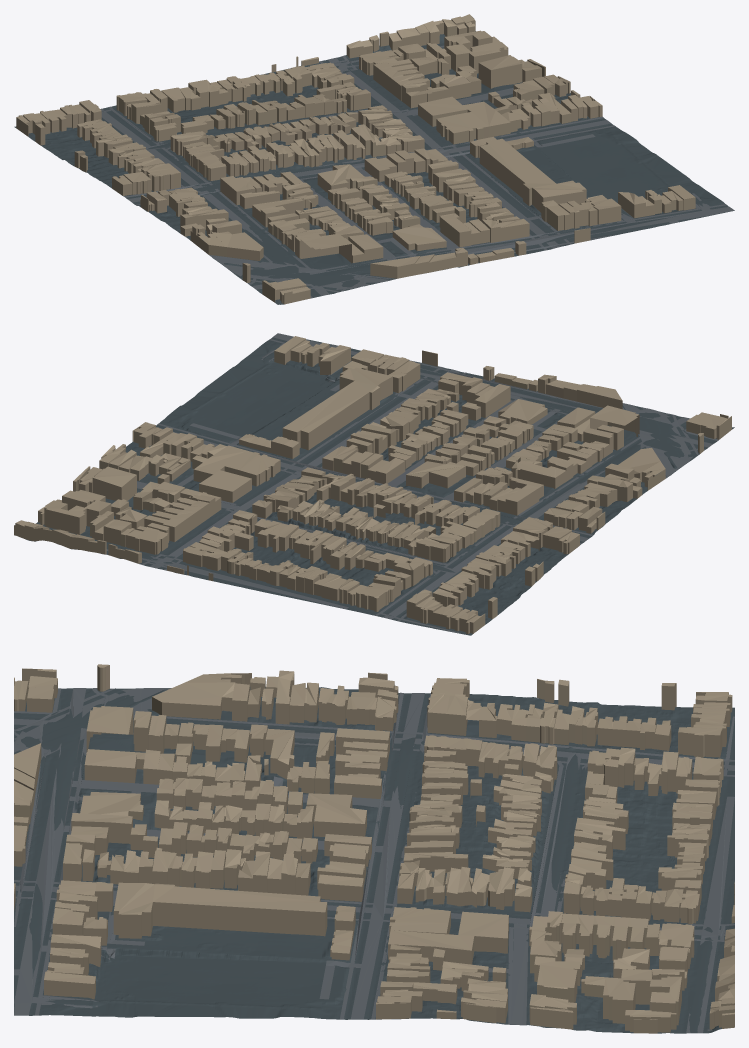
Rendered from epsg26910-1432-10884.lod0.glb.
3 views of the same model, one above another, from view 1: azimuth 30°, elevation 25°; view 2: azimuth 150°, elevation 25°; view 3: azimuth 270°, elevation 25° (orthographic). The views are drawn at different scales.
Visible parts, largest first — view 1: epsg26910-1432-10884-lod0; view 2: epsg26910-1432-10884-lod0; view 3: epsg26910-1432-10884-lod0.
Part boxes in pixels (x1,y1,x2,y2): epsg26910-1432-10884-lod0: [14, 14, 734, 304]; epsg26910-1432-10884-lod0: [14, 333, 734, 635]; epsg26910-1432-10884-lod0: [14, 664, 734, 1033].
Size of the model in its own units: 384 by 38.96 by 384.
